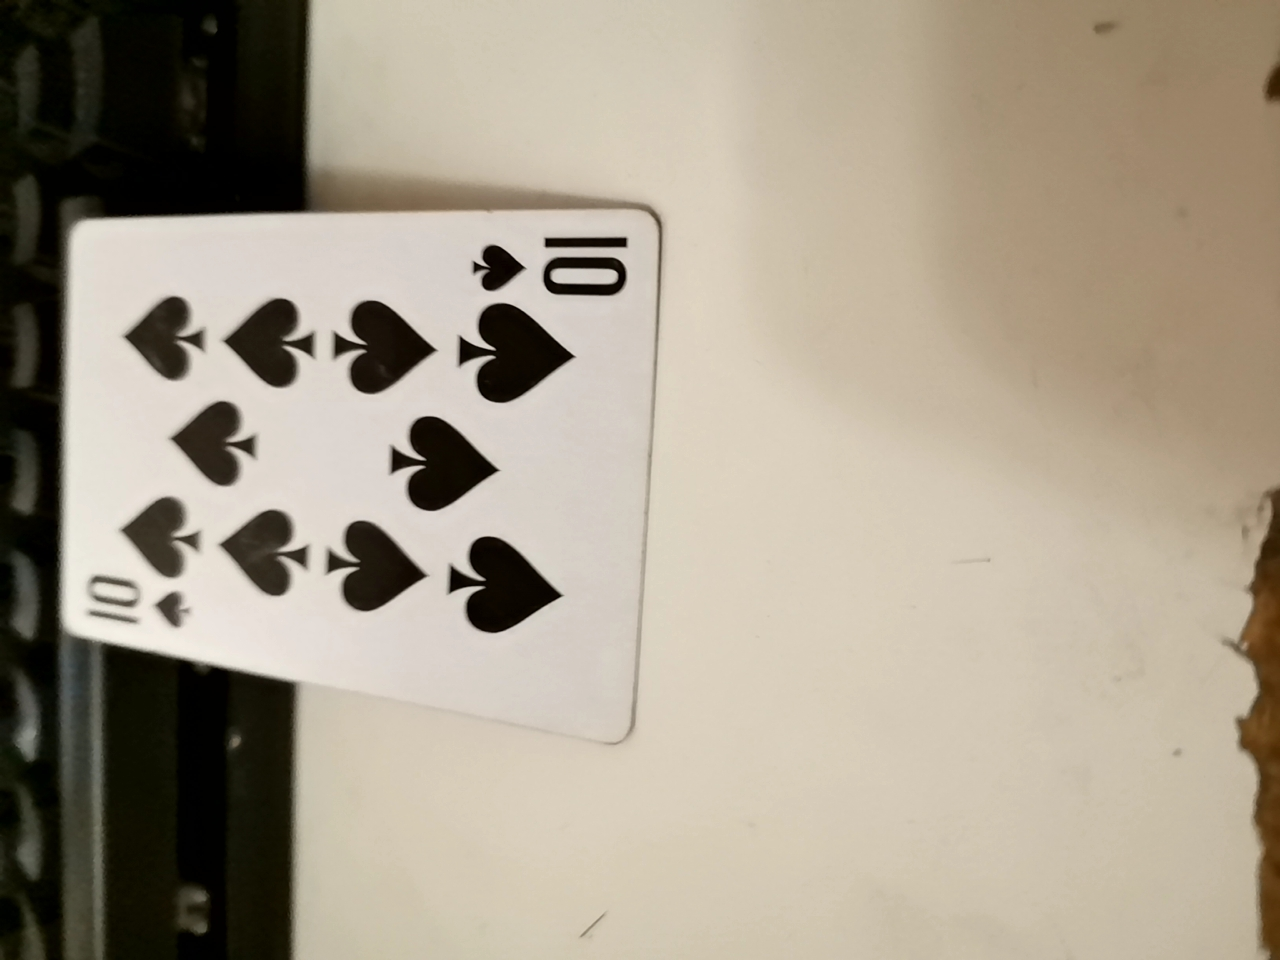ht 10: (30, 179, 669, 704)
